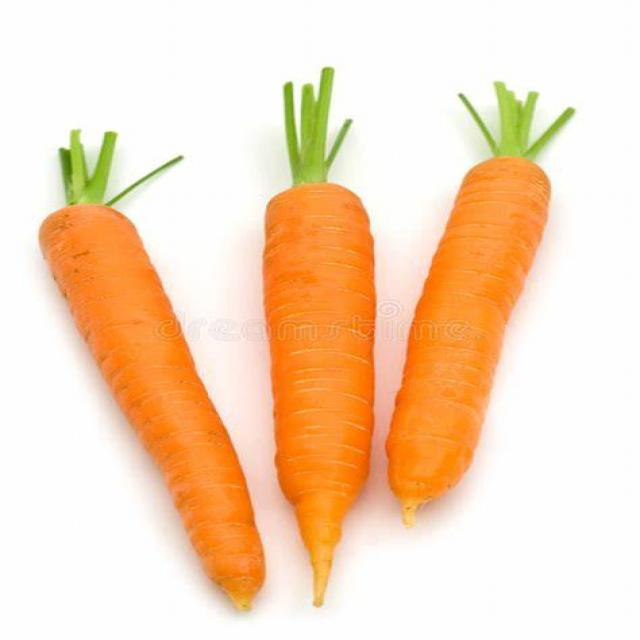Carrot: (37, 202, 278, 612), (398, 80, 573, 513), (263, 186, 388, 603)
